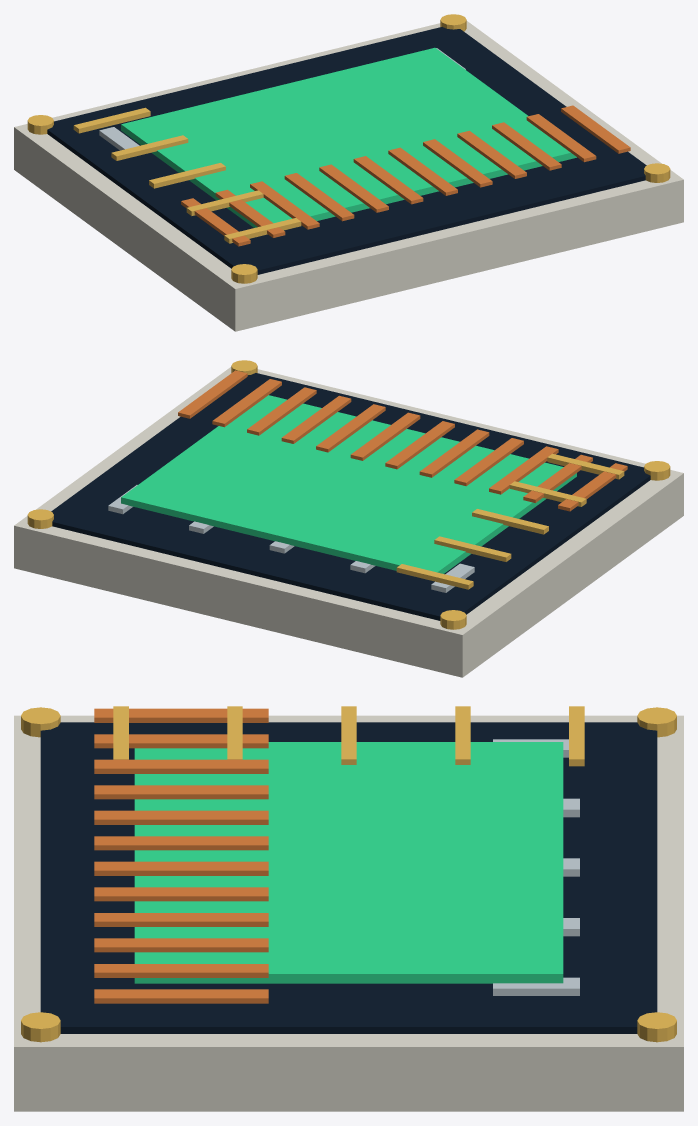
The model's file is 09_L79_SensorChiplet.fbx.
3 renders of one model, top to bottom at view 1: azimuth 30°, elevation 25°; view 2: azimuth 150°, elevation 25°; view 3: azimuth 270°, elevation 25°, orthographic. The views are drawn at different scales.
Parts seen in each view (by area): view 1: SensorChiplet; view 2: SensorChiplet; view 3: SensorChiplet.
Boxes of the visible parts, x1,y1,x2,y2 form: SensorChiplet: (14, 14, 683, 331); SensorChiplet: (14, 360, 683, 677); SensorChiplet: (14, 706, 683, 1111).
Bounding box in the file's own units: 110 × 15.75 × 94.
